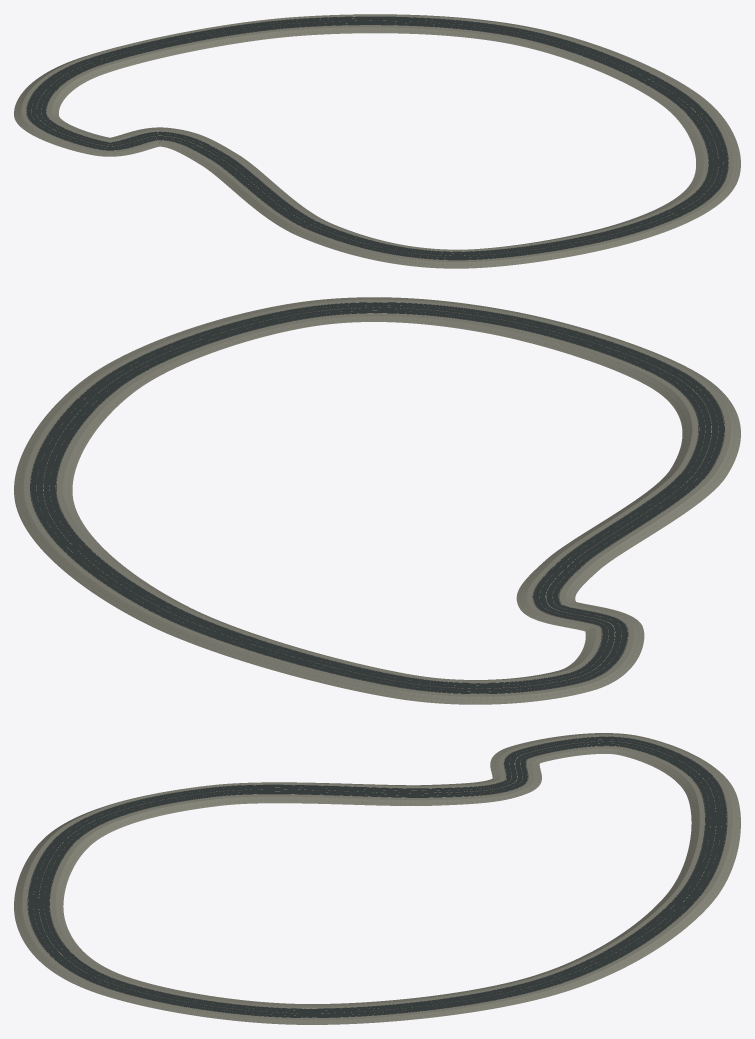
Rendered from road-alpine.glb.
3 renders of one model, top to bottom at view 1: azimuth 30°, elevation 25°; view 2: azimuth 150°, elevation 25°; view 3: azimuth 270°, elevation 25°, orthographic. The views are drawn at different scales.
Visible parts, largest first — view 1: Alpine gravel, Alpine asphalt; view 2: Alpine gravel, Alpine asphalt, Road paint white; view 3: Alpine gravel, Alpine asphalt, Road paint white.
Part boxes in pixels (box(x1,y1,x2,y2)): Alpine gravel: box(14, 14, 740, 268); Alpine asphalt: box(26, 16, 728, 260); Alpine gravel: box(14, 297, 740, 704); Alpine asphalt: box(30, 302, 724, 693); Road paint white: box(30, 302, 724, 693); Alpine gravel: box(14, 733, 740, 1024); Alpine asphalt: box(27, 736, 727, 1017); Road paint white: box(28, 736, 726, 1017).
Bounding box in the file's own units: 586 × 3.54 × 617.
4 materials, 4 textured.
